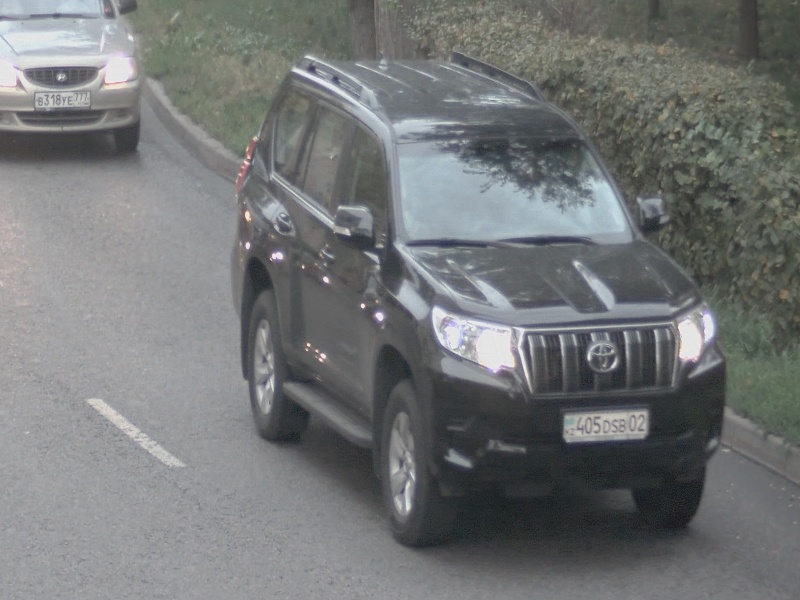plate: (561, 405, 650, 443), (34, 90, 91, 109)
